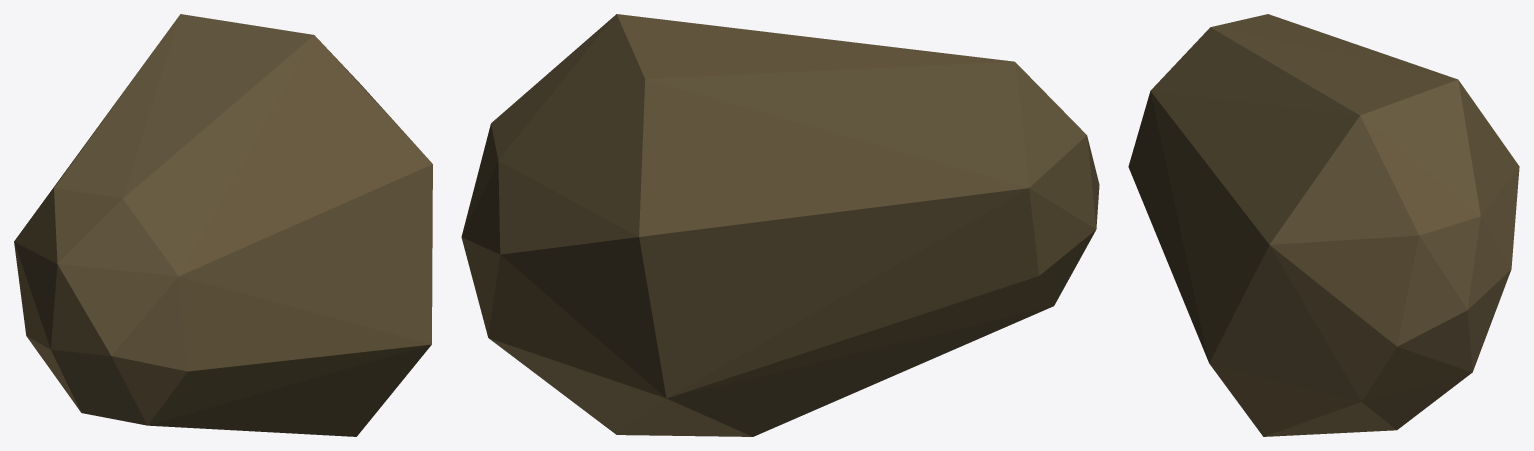
File: ant-trochanter-middle-left.dae
3 views of the same model, side by side, from view 1: azimuth 30°, elevation 25°; view 2: azimuth 150°, elevation 25°; view 3: azimuth 270°, elevation 25° (orthographic). The views are drawn at different scales.
Visible parts, largest first — view 1: ant-femur-trochanter-middle-left; view 2: ant-femur-trochanter-middle-left; view 3: ant-femur-trochanter-middle-left.
Boxes of the visible parts, box(x1,y1,x2,y2) form: ant-femur-trochanter-middle-left: box(14, 14, 432, 436); ant-femur-trochanter-middle-left: box(461, 14, 1099, 436); ant-femur-trochanter-middle-left: box(1128, 14, 1519, 436).
Bounding box in the file's own units: 1.4 × 1.14 × 1.05.
